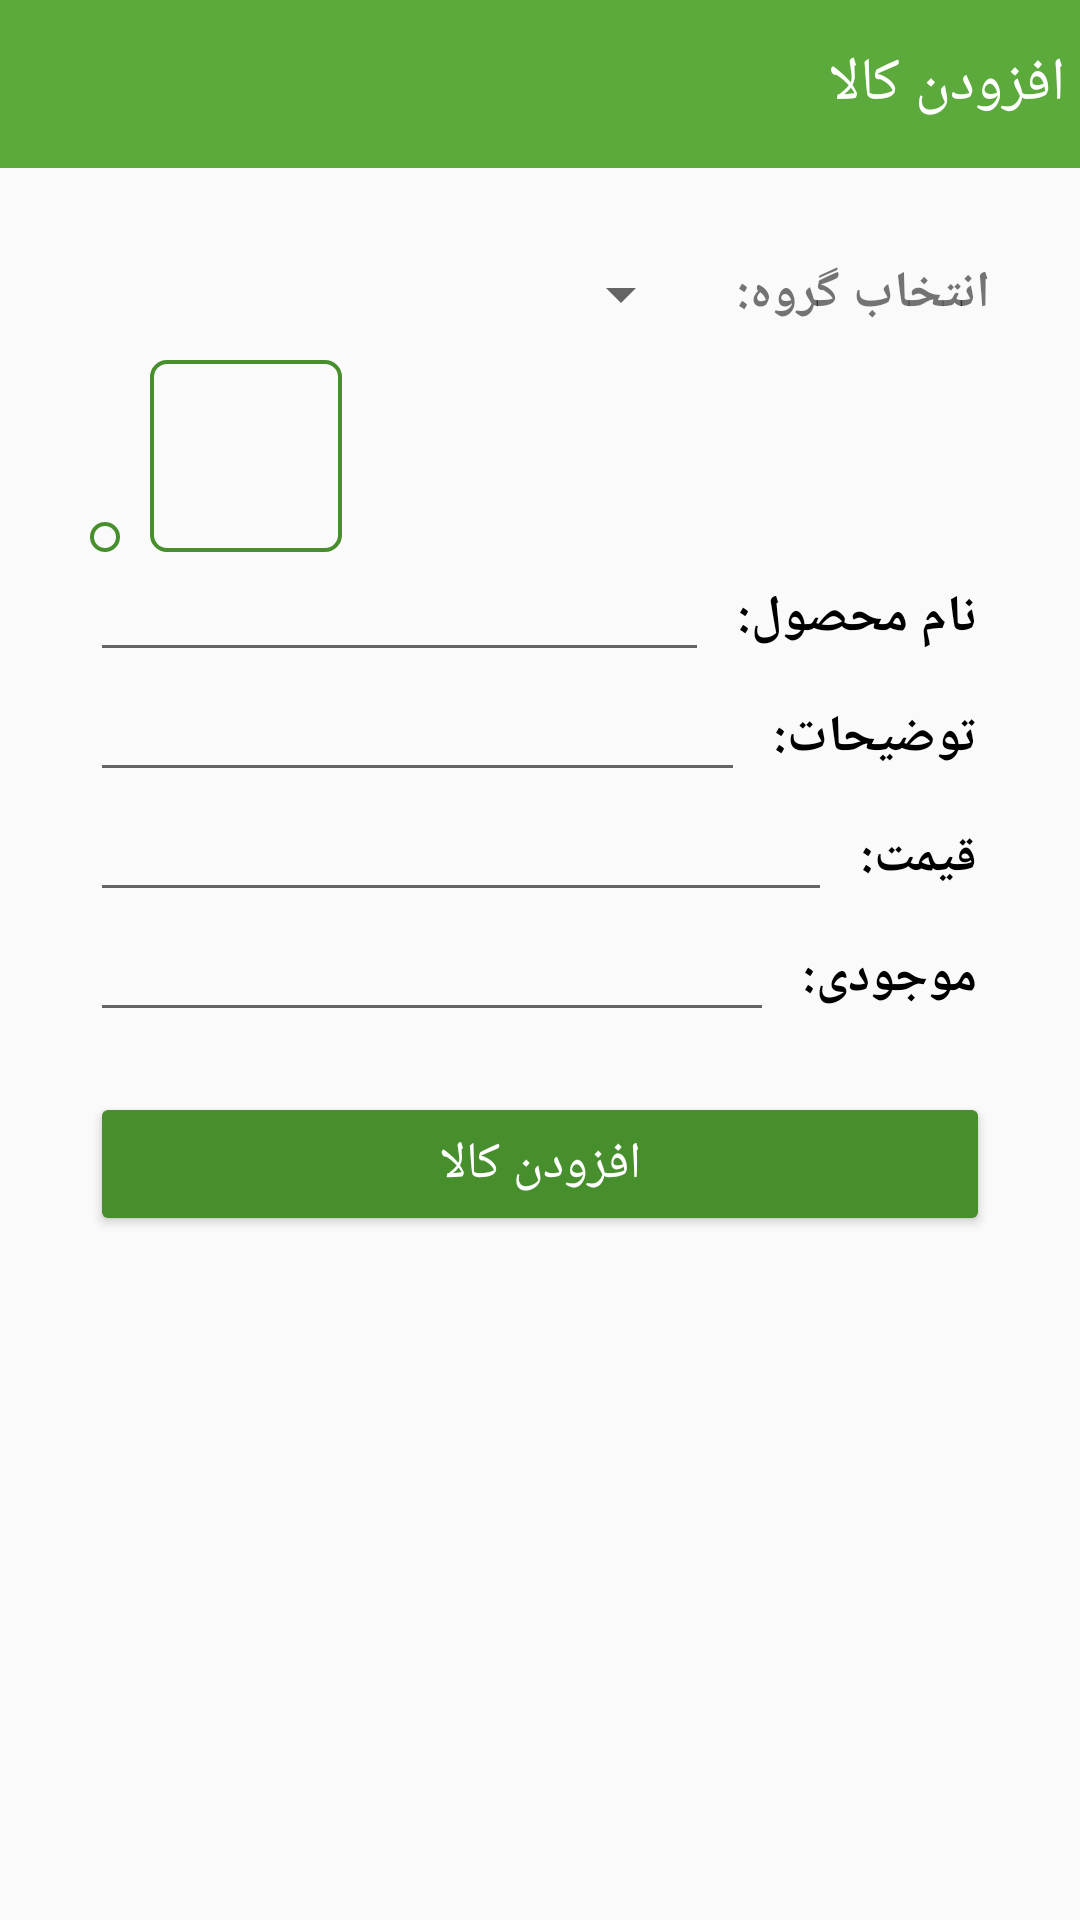

Named icons in this screenshot (1080px x 1920px) and their centers, (x,y):
roundcorner: (246,456)
